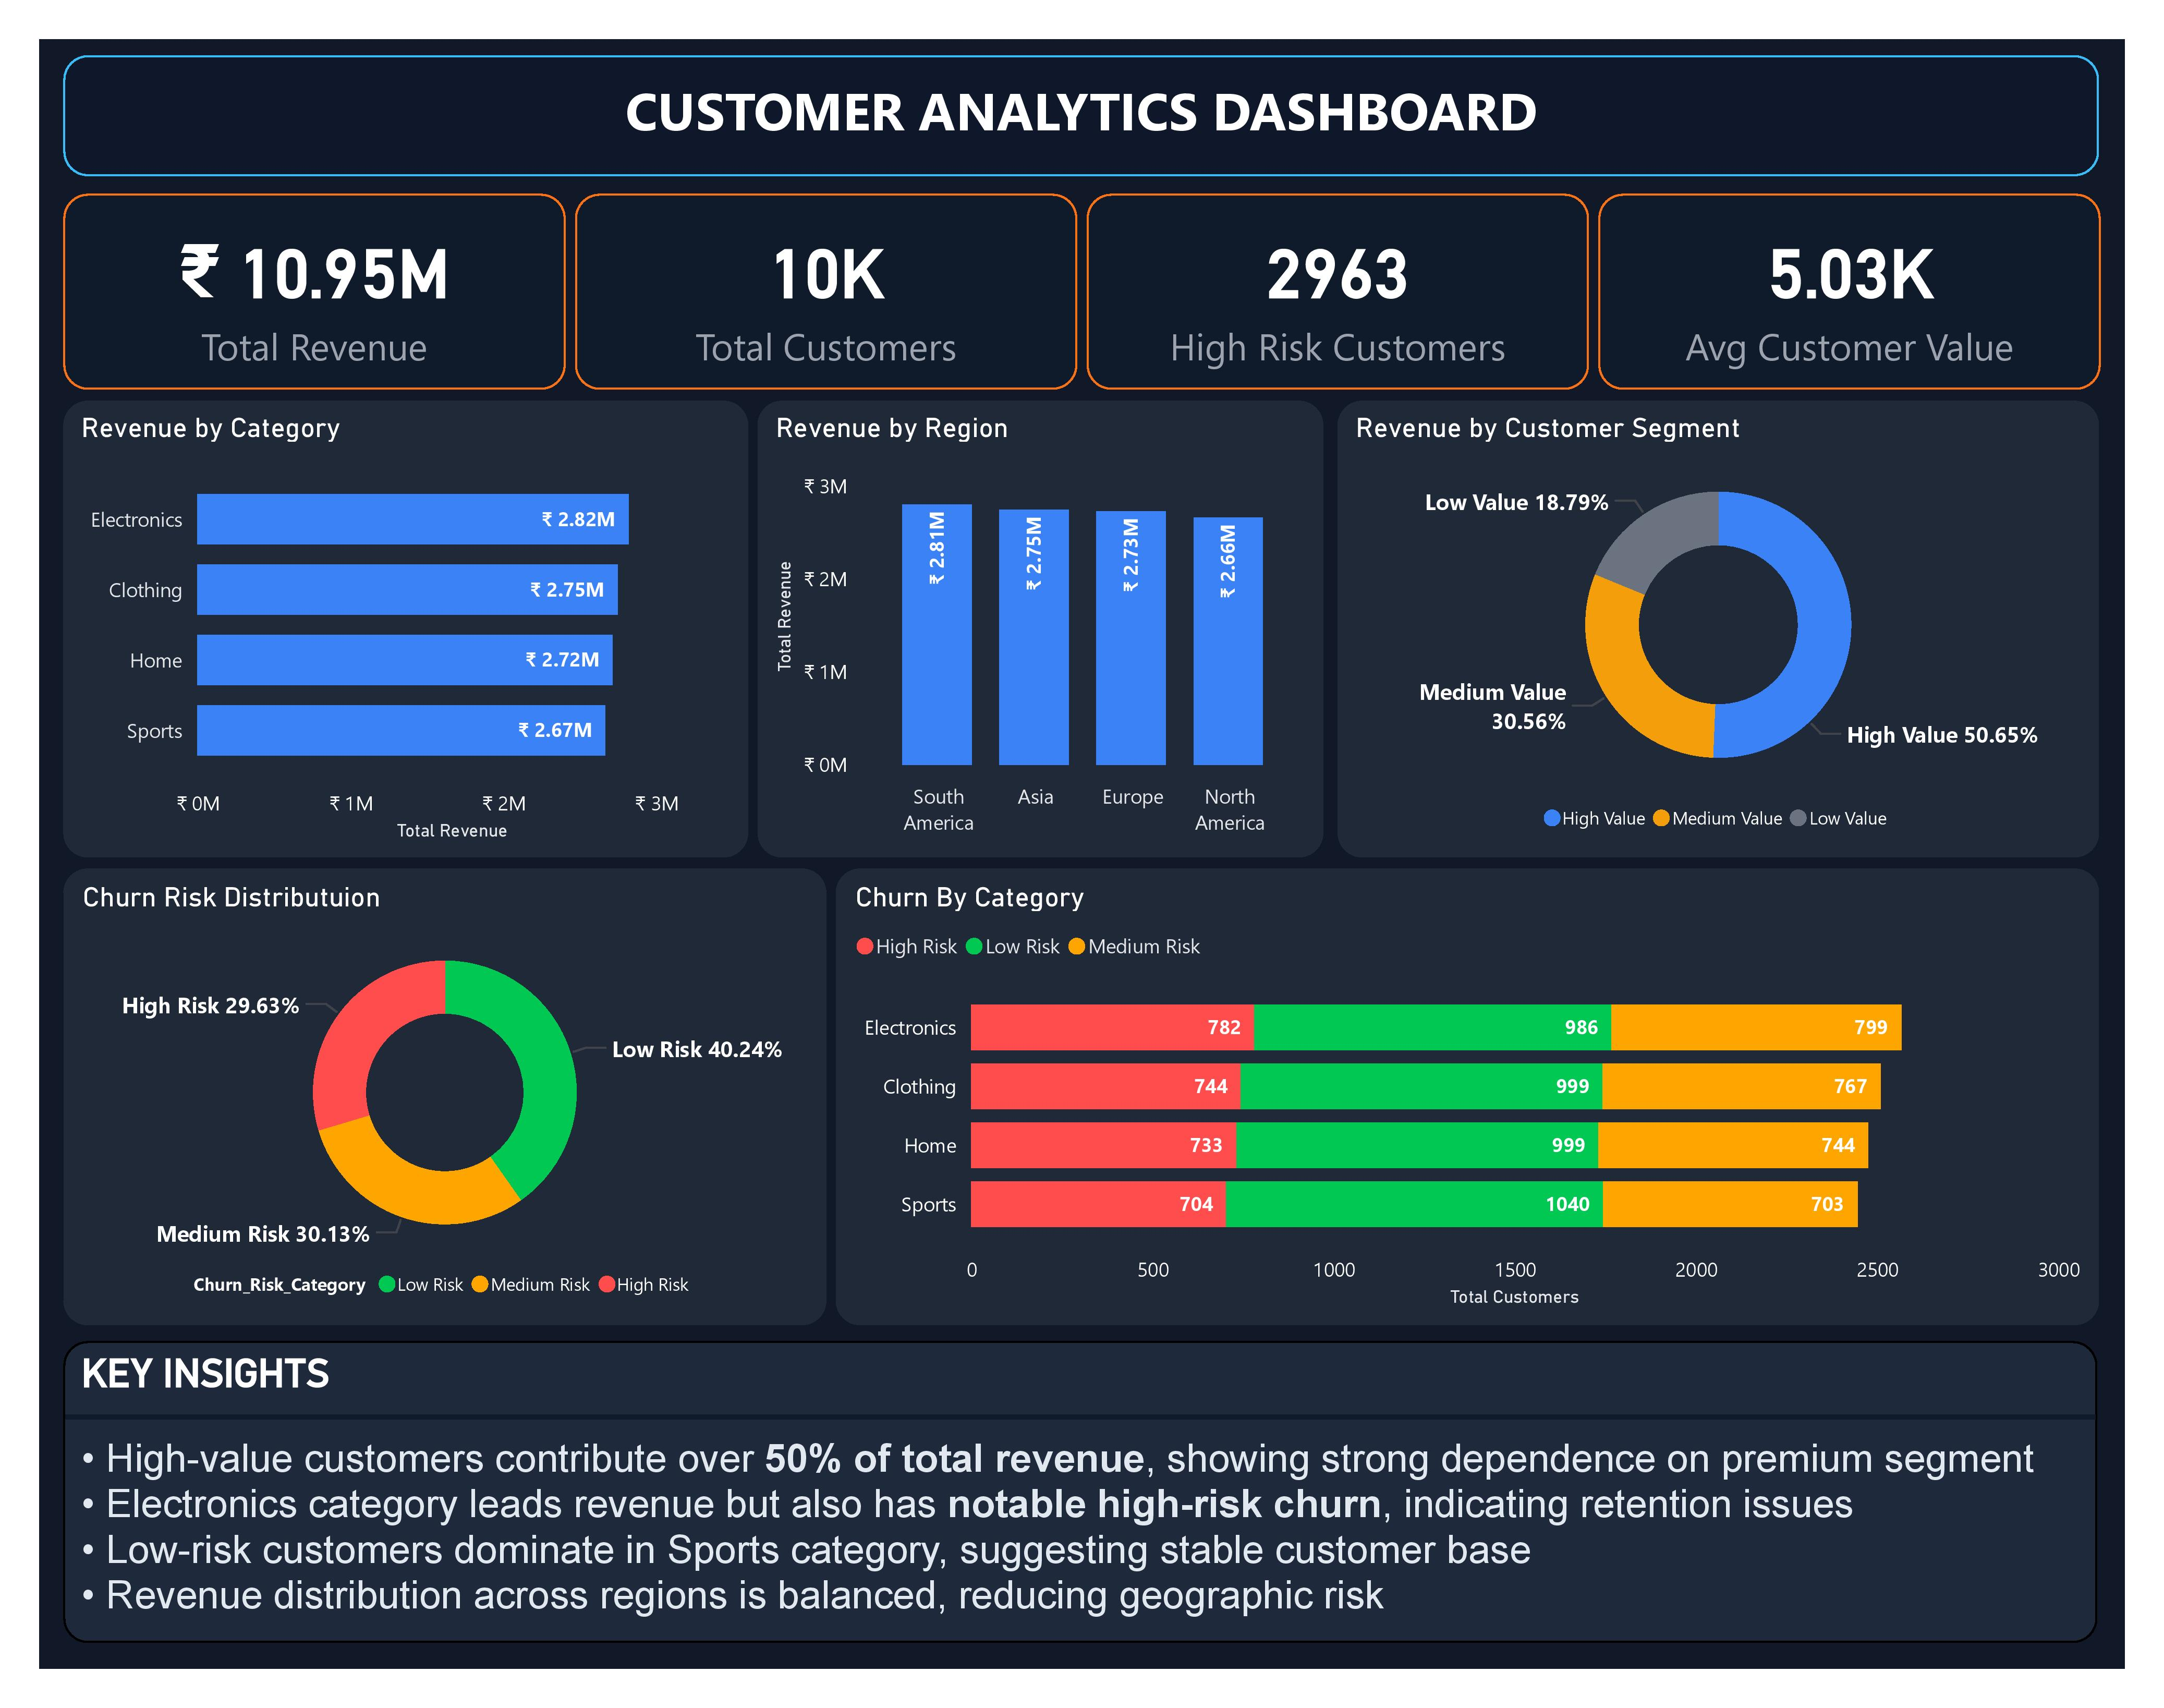

The dashboard page shown, as its layout file describes it:
{"tool":"powerbi","page":{"name":"Page 1","canvas":[1280,1000],"ordinal":0},"visuals":[{"type":"card","fields":{"Values":["sales_data.Total Customers"]},"box":[328.8,95.2,308,119.8],"z":0},{"type":"card","fields":{"Values":["sales_data.Total Revenue"]},"box":[14.9,94.9,308,120.2],"z":1000},{"type":"card","fields":{"Values":["sales_data.High Risk Customers"]},"box":[642.7,95.2,308,119.8],"z":2000},{"type":"card","fields":{"Values":["sales_data.Avg Customer Value"]},"box":[956.7,95.2,308,120],"z":3000},{"type":"clusteredBarChart","title":"Revenue by Category","fields":{"Category":["sales_data.Most_Frequent_Category"],"Y":["sales_data.Total Revenue"]},"box":[14.9,222,420,280],"z":4000},{"type":"clusteredColumnChart","title":"Revenue by Region","fields":{"Y":["sales_data.Total Revenue"],"Category":["sales_data.Region"]},"box":[440.6,222,347.2,280],"z":5000},{"type":"donutChart","title":"Revenue by Customer Segment","fields":{"Category":["sales_data.Customer_Segment"],"Y":["sales_data.Total Revenue"]},"box":[796.6,222,467,280],"z":6000},{"type":"donutChart","title":"Churn Risk Distributuion","fields":{"Category":["sales_data.Churn_Risk_Category"],"Y":["sales_data.Total Customers"]},"box":[14.7,509.1,468.4,280.2],"z":7000},{"type":"barChart","title":"Churn By Category","fields":{"Series":["sales_data.Churn_Risk_Category"],"Category":["sales_data.Most_Frequent_Category"],"Y":["sales_data.Total Customers"]},"box":[489,509.4,774.9,279.9],"z":8000},{"type":"textbox","title":"KEY INSIGHTS","box":[14.8,799,1248.6,185],"z":9000},{"type":"textbox","box":[14.8,9.9,1249.4,74.1],"z":9001}]}

Visuals, with their boxes in screenshot pixels (x1, y1, x2, y2):
card - sales_data.Total Customers: BBox(560, 181, 1073, 381)
card - sales_data.Total Revenue: BBox(36, 181, 550, 381)
card - sales_data.High Risk Customers: BBox(1083, 181, 1596, 381)
card - sales_data.Avg Customer Value: BBox(1607, 181, 2120, 381)
"Revenue by Category" clusteredBarChart: BBox(36, 393, 736, 859)
"Revenue by Region" clusteredColumnChart: BBox(746, 393, 1324, 859)
"Revenue by Customer Segment" donutChart: BBox(1340, 393, 2118, 859)
"Churn Risk Distributuion" donutChart: BBox(36, 871, 817, 1339)
"Churn By Category" barChart: BBox(826, 872, 2119, 1339)
"KEY INSIGHTS" textbox: BBox(36, 1355, 2118, 1663)
textbox: BBox(36, 39, 2119, 163)
